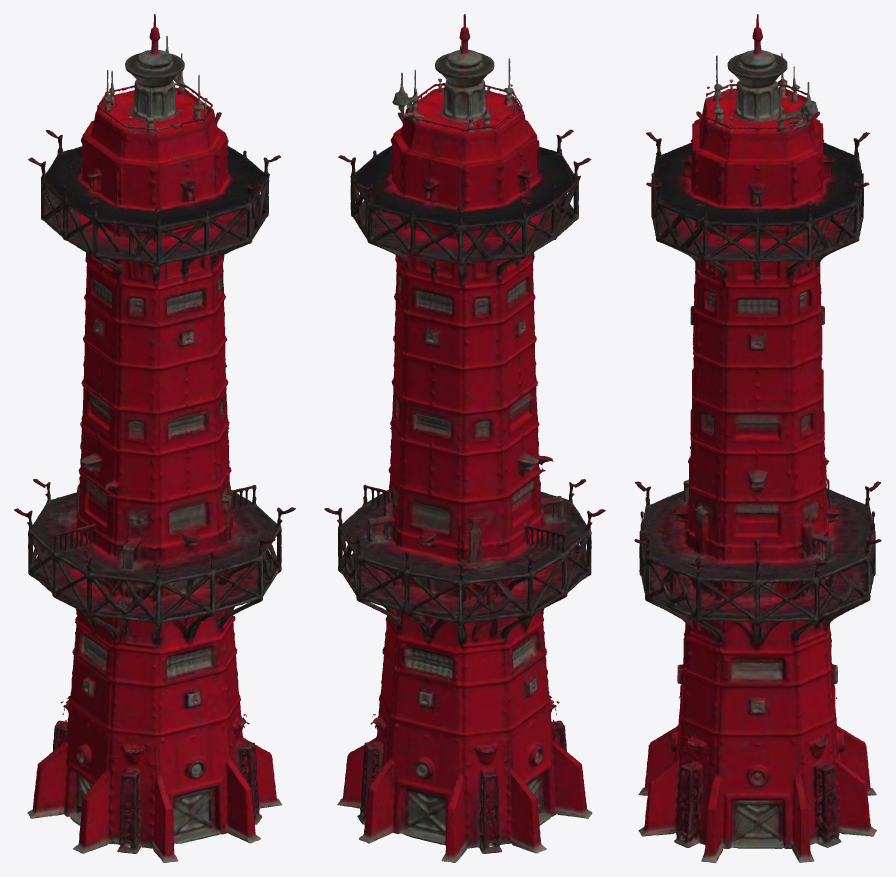
Rendered from kanseitou.glb.
3 views of the same model, side by side, from view 1: azimuth 30°, elevation 25°; view 2: azimuth 150°, elevation 25°; view 3: azimuth 270°, elevation 25° (orthographic).
Visible parts, largest first — view 1: Mesh_0; view 2: Mesh_0; view 3: Mesh_0.
Part boxes in pixels (<box>): Mesh_0: <box>14,14,295,862</box>; Mesh_0: <box>324,14,605,862</box>; Mesh_0: <box>634,14,881,862</box>.
Bounding box in the file's own units: 16.88 × 60 × 16.85.
Materials: 1 (1 with a texture image).
